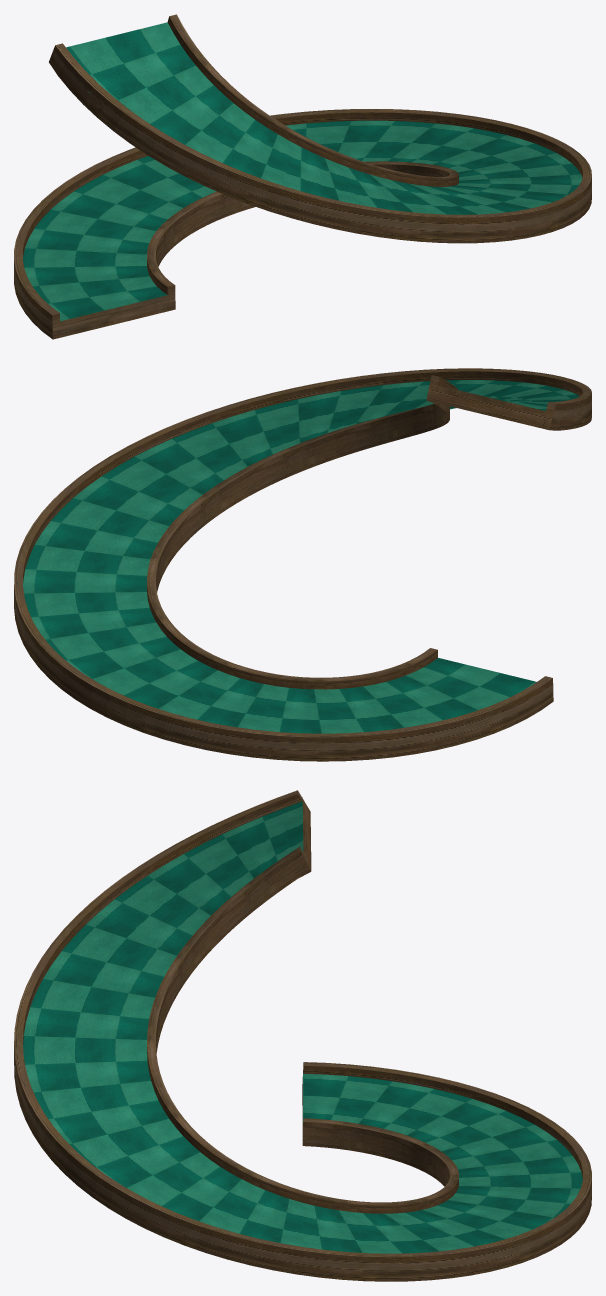
Rendered from PartBigCurveB.gltf.
3 views of the same model, one above another, from view 1: azimuth 30°, elevation 25°; view 2: azimuth 150°, elevation 25°; view 3: azimuth 270°, elevation 25° (orthographic).
Visible parts, largest first — view 1: PartBigCurveB_glb; view 2: PartBigCurveB_glb; view 3: PartBigCurveB_glb.
Boxes of the visible parts, x1,y1,x2,y2 form: PartBigCurveB_glb: (14, 14, 591, 339); PartBigCurveB_glb: (14, 368, 591, 761); PartBigCurveB_glb: (14, 790, 591, 1281).
Size of what is drawn, in the model's own units: 16.3 by 9.25 by 16.3.
Materials: 2 (2 with a texture image).
